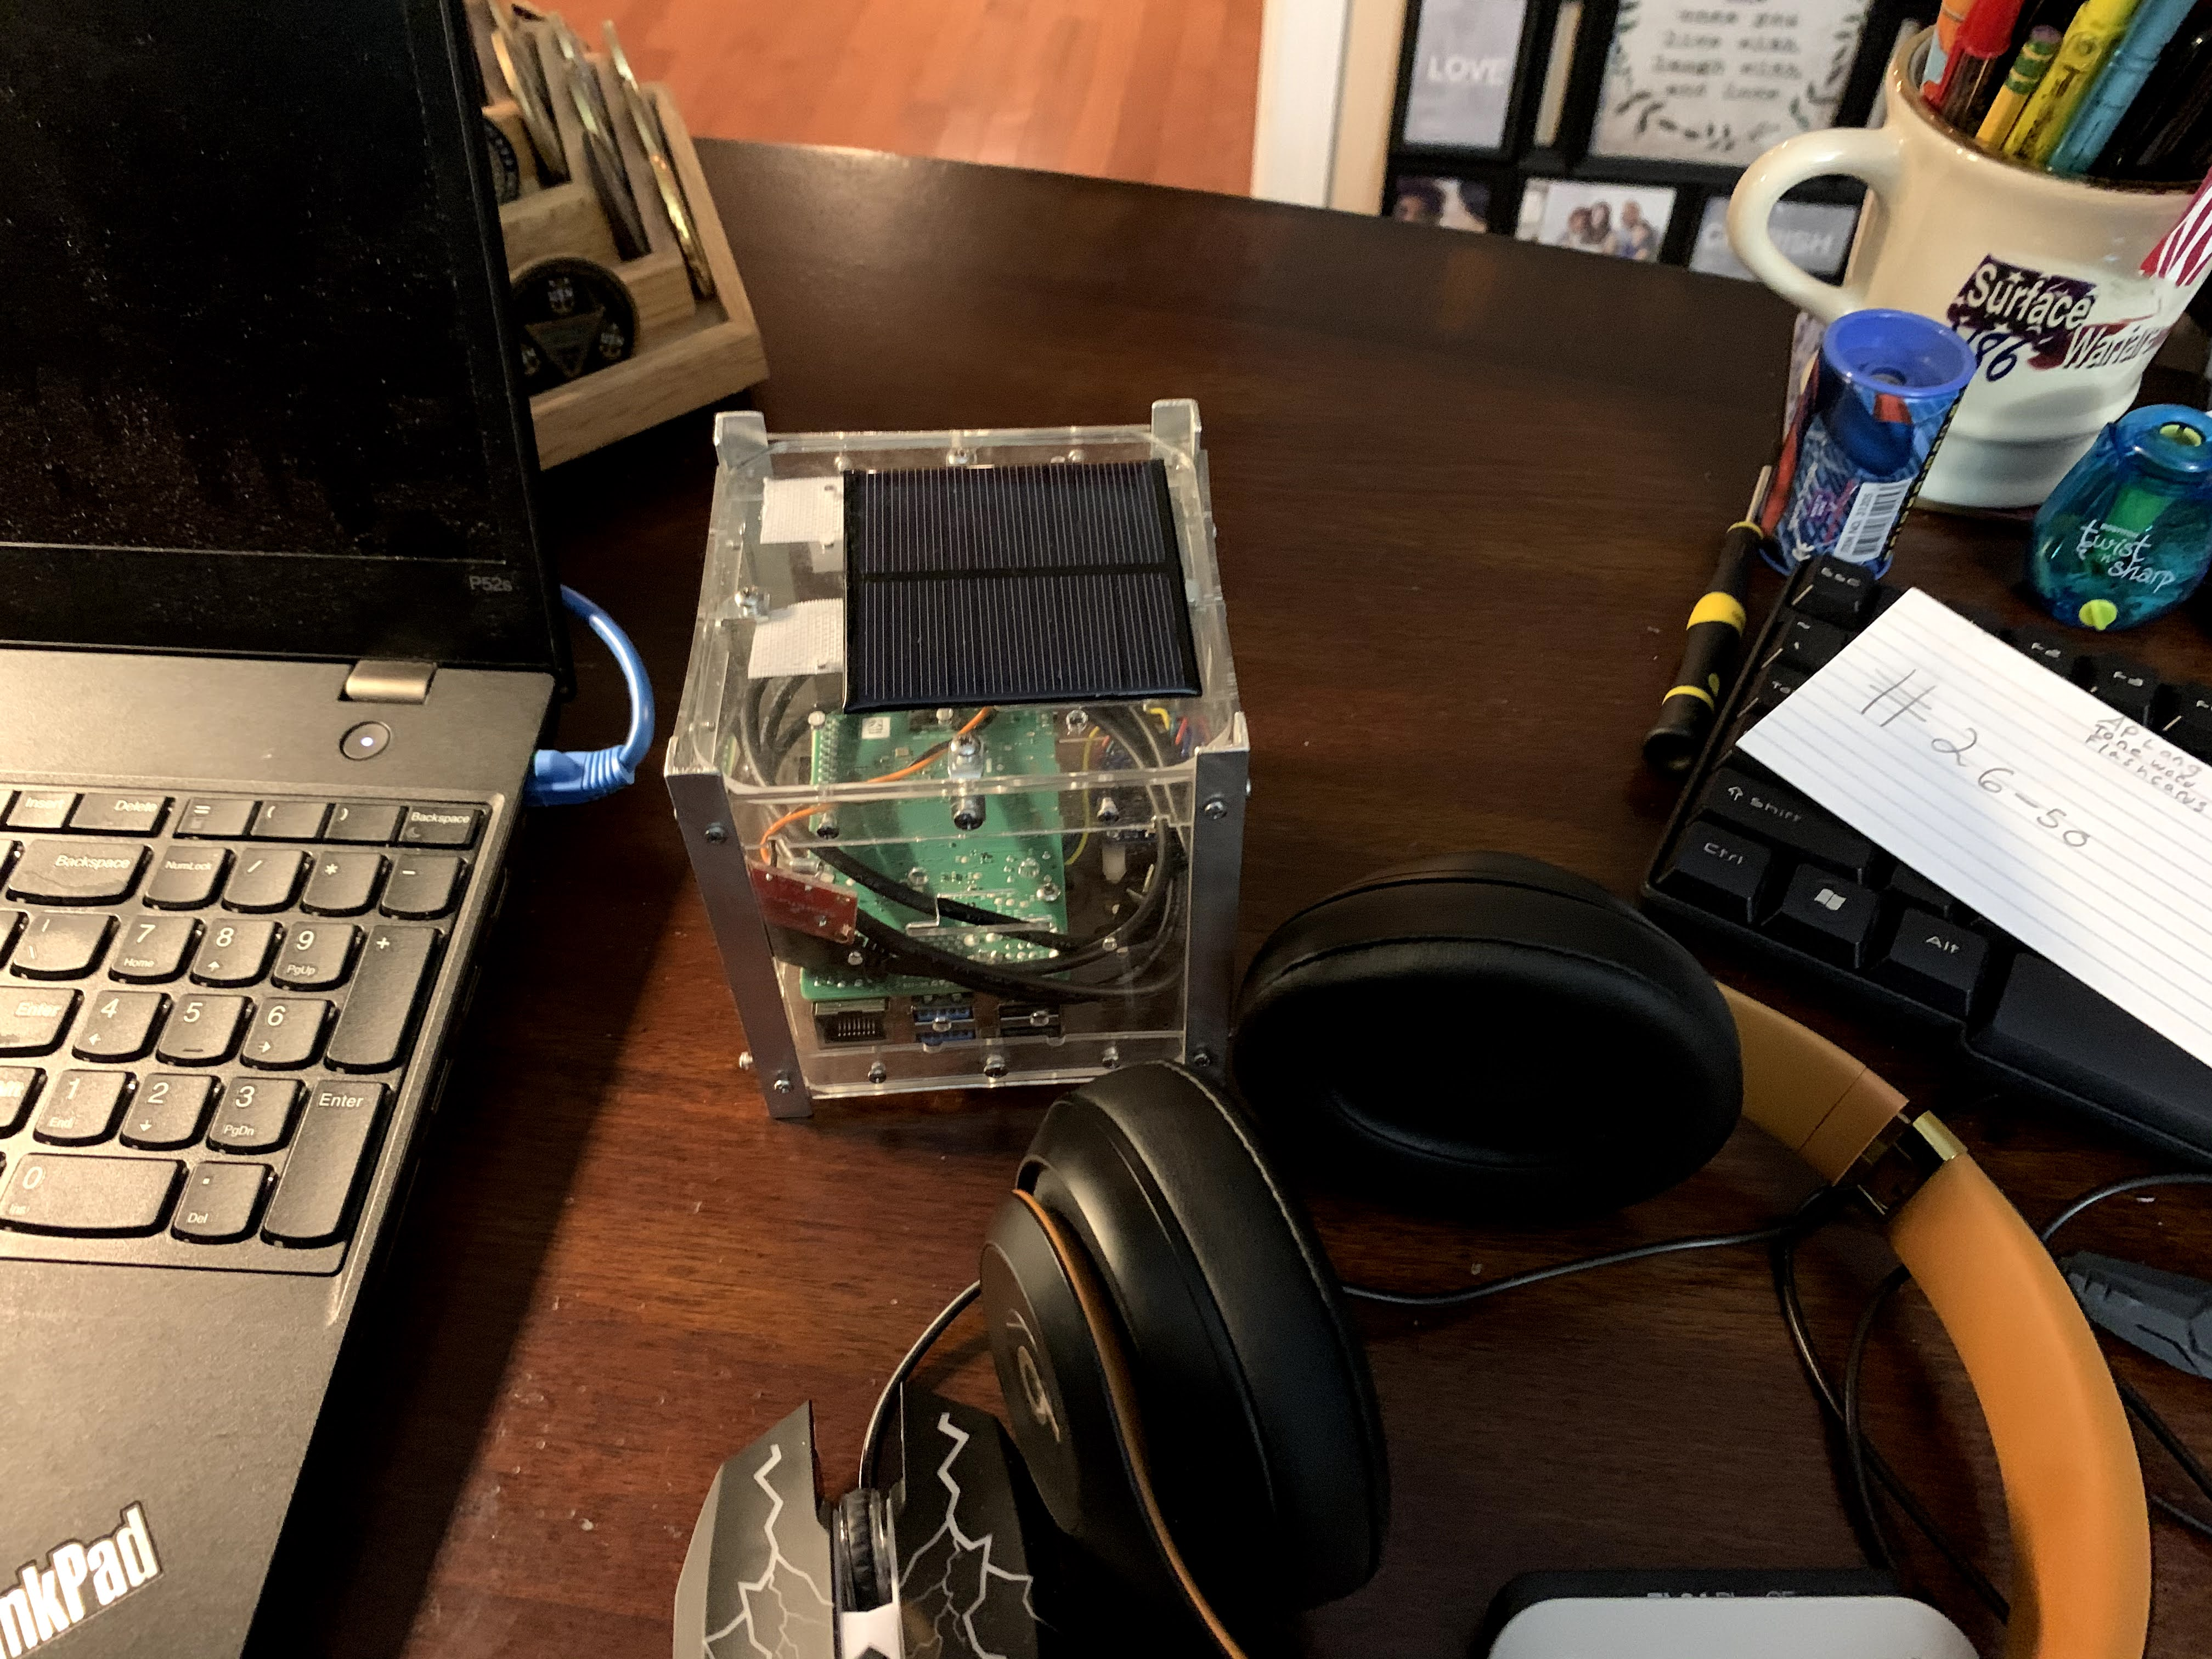Space-debris-cubesat: (662, 371, 1287, 1121)
